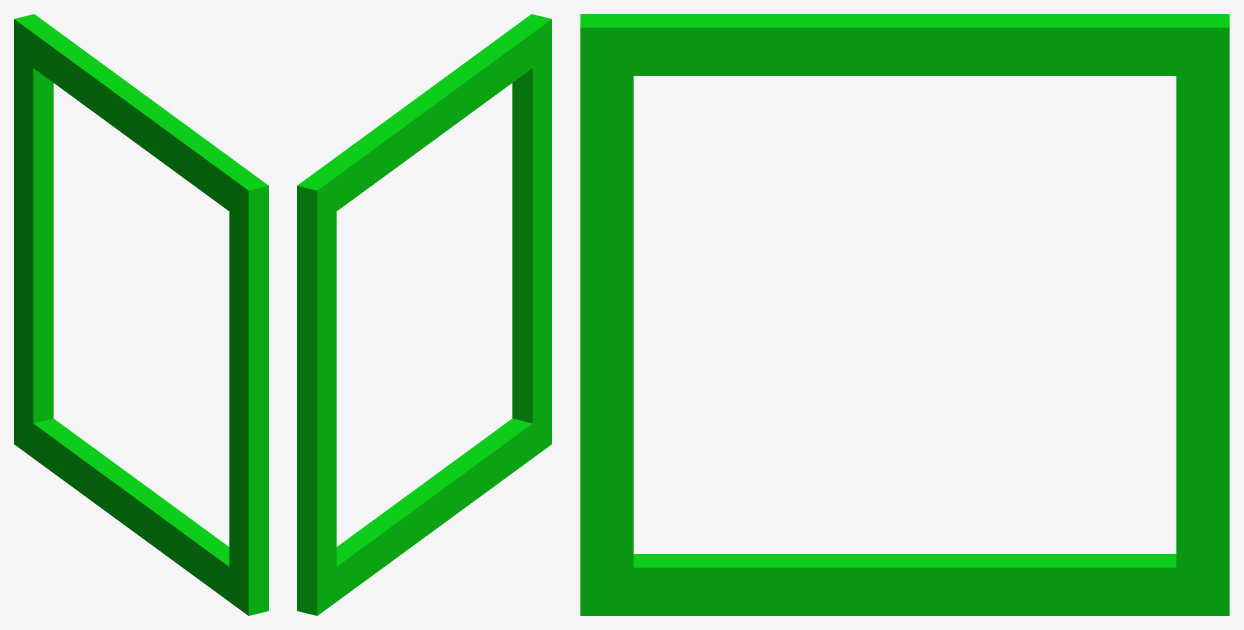
The model's file is greenOutline.fbx.
The picture shows the model from 3 angles, left to right: view 1: azimuth 30°, elevation 25°; view 2: azimuth 150°, elevation 25°; view 3: azimuth 270°, elevation 25°; orthographic projection. The views are drawn at different scales.
Parts seen in each view (by area): view 1: Cube; view 2: Cube; view 3: Cube.
Part boxes in pixels (x1,y1,x2,y2): Cube: [14, 14, 268, 615]; Cube: [297, 14, 551, 615]; Cube: [580, 14, 1229, 615].
Size of the model in its own units: 10 by 200 by 200.
